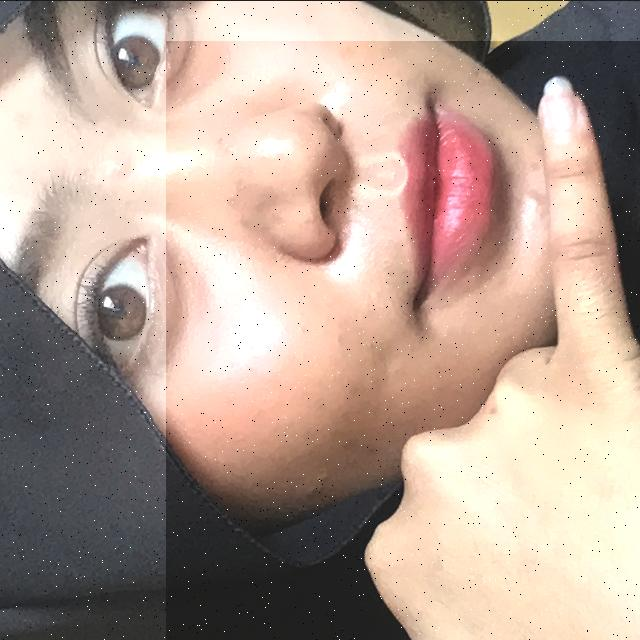telpon: (166, 40, 640, 640)
